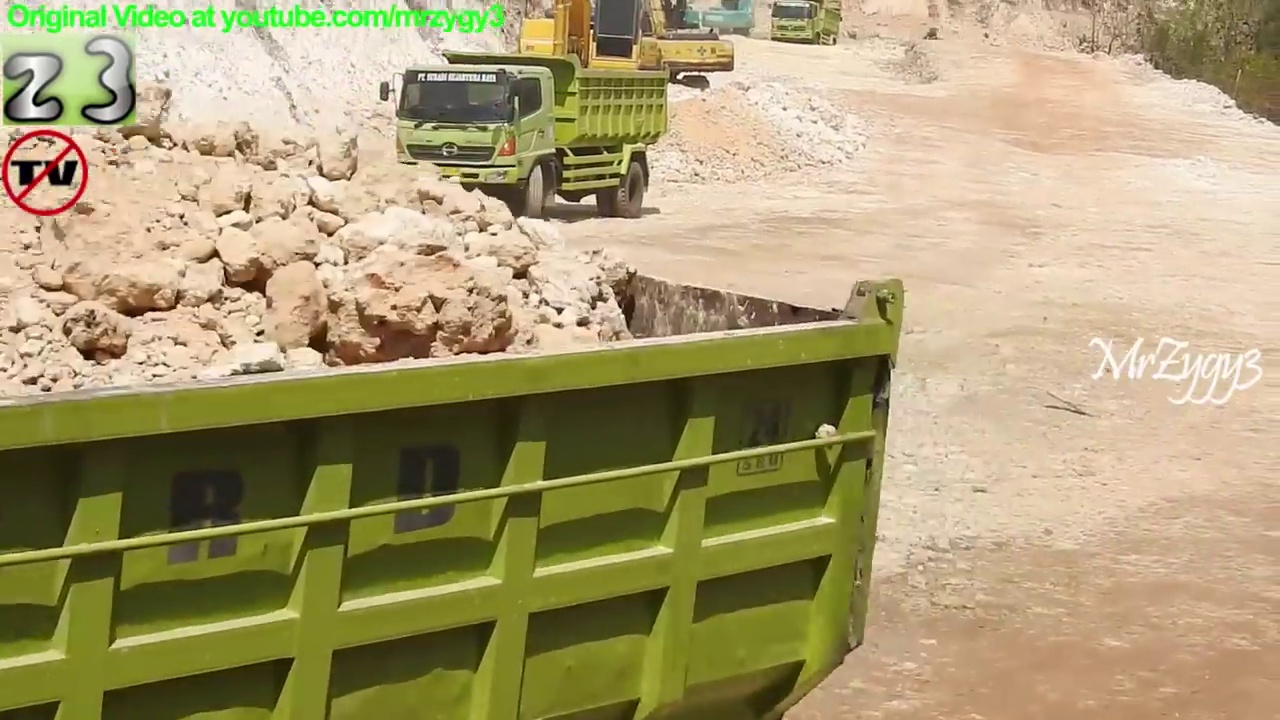excavator: (504, 1, 693, 107), (556, 1, 736, 95), (627, 1, 709, 48), (700, 1, 757, 41)
truck: (2, 213, 916, 720), (375, 48, 669, 220), (772, 1, 846, 50)
